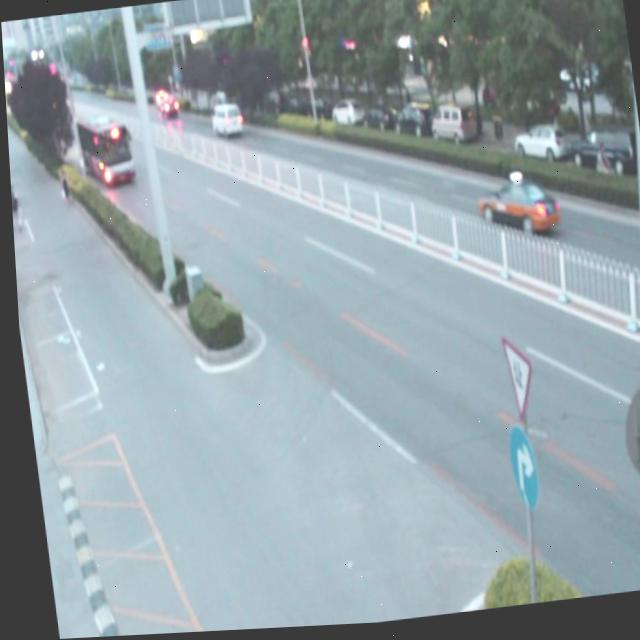car: (470, 176, 559, 247)
truck: (207, 103, 242, 141)
van: (73, 108, 133, 189)
